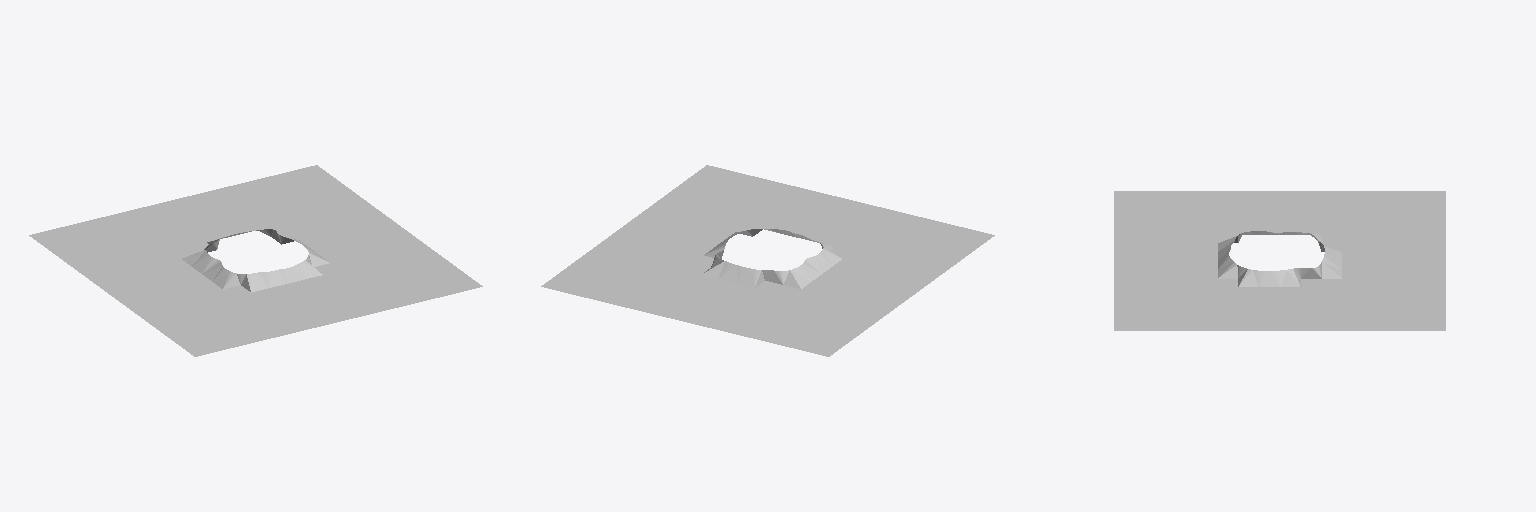
File: prototype_island_2_water.obj
3 views of the same model, side by side, from view 1: azimuth 30°, elevation 25°; view 2: azimuth 150°, elevation 25°; view 3: azimuth 270°, elevation 25° (orthographic).
Visible parts, largest first — view 1: Plane_Plane.002; view 2: Plane_Plane.002; view 3: Plane_Plane.002.
Part boxes in pixels (x1,y1,x2,y2): Plane_Plane.002: (29,165,482,356); Plane_Plane.002: (541,165,994,356); Plane_Plane.002: (1114,191,1445,330).
Size of the model in its own units: 60 by 2 by 60.